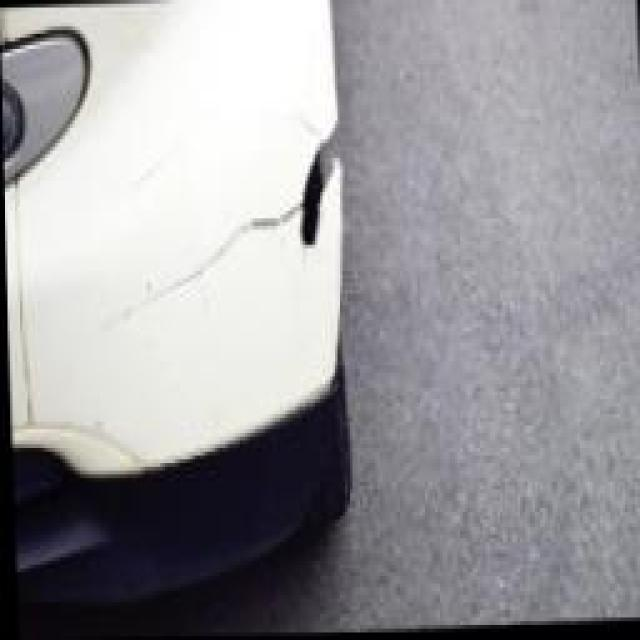Bumper: (100, 102, 348, 396)
